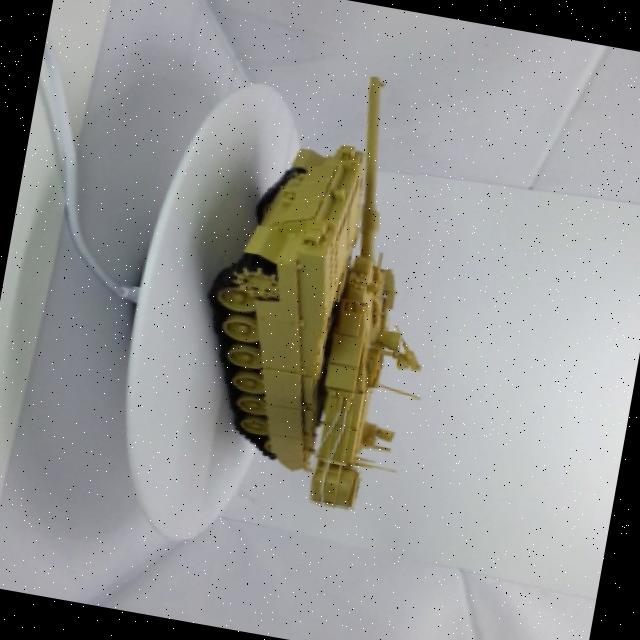korea tank: (170, 52, 494, 528)
